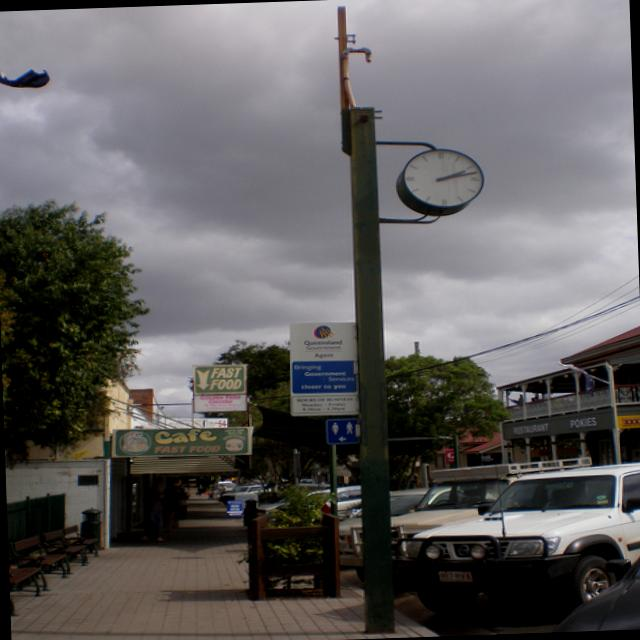Vehicle: (397, 458, 640, 618), (388, 480, 512, 578), (544, 529, 640, 632), (334, 486, 434, 566), (250, 494, 296, 514), (305, 488, 332, 522), (218, 484, 262, 504), (338, 484, 362, 512), (218, 481, 236, 492)
